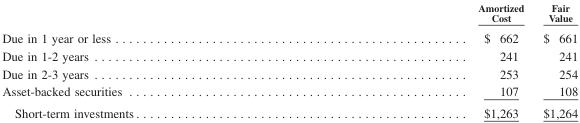table: (1, 1, 577, 119)
table column: (1, 1, 307, 119), (307, 1, 532, 119), (532, 1, 577, 119)
table column header: (1, 1, 577, 26)
table row: (1, 1, 577, 26), (1, 26, 577, 46), (1, 82, 577, 101), (1, 46, 577, 64), (1, 64, 577, 82), (1, 101, 577, 119)
